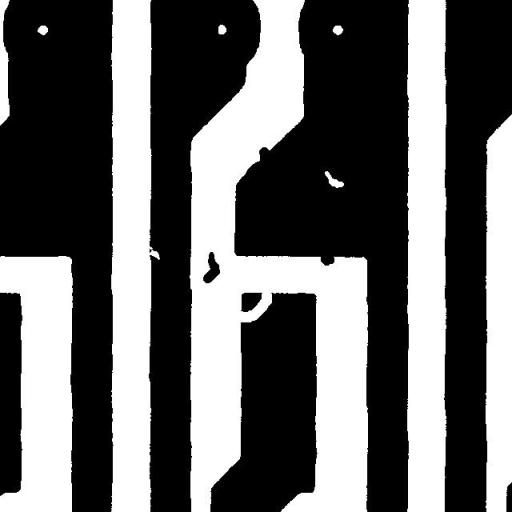copper: (195, 244, 227, 290)
mousebite: (138, 236, 168, 267)
open: (228, 282, 279, 330)
pin-hole: (317, 163, 351, 195)
spur: (312, 244, 342, 273), (251, 140, 278, 170)
